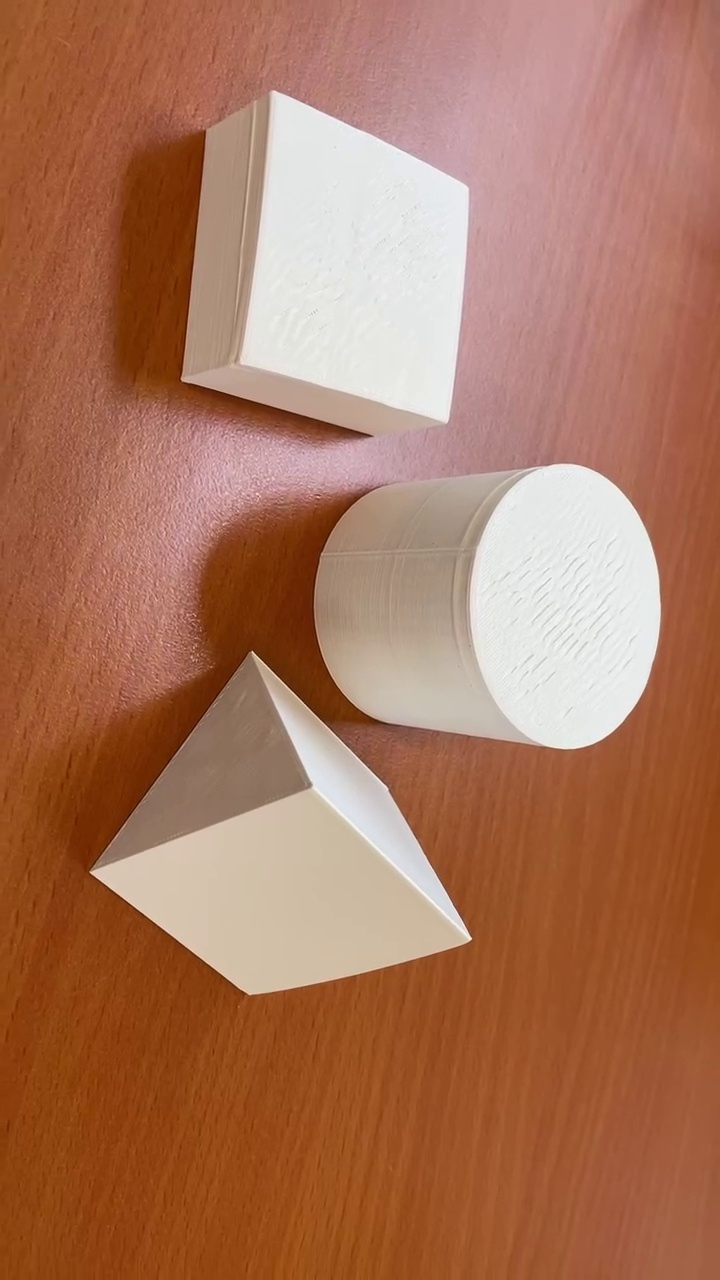Cube_short: (175, 90, 467, 441)
Cylinder: (313, 463, 661, 750)
Triangle: (89, 650, 471, 996)
